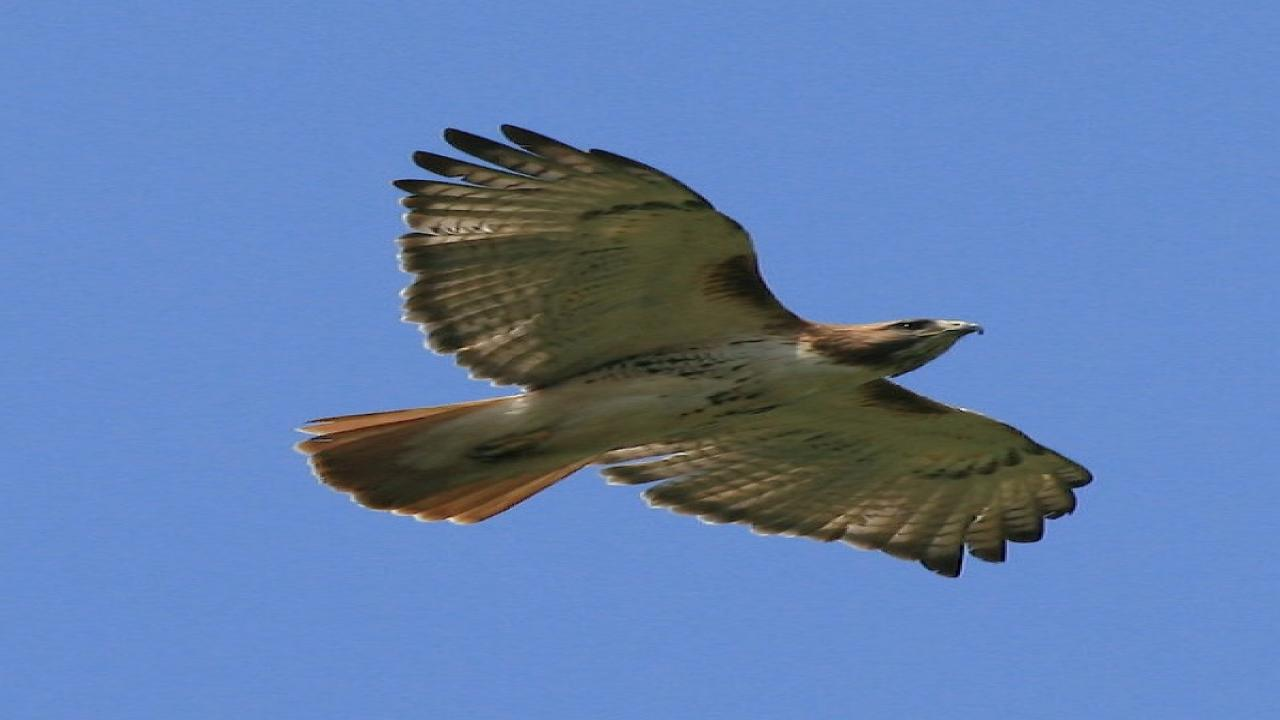Bird: (282, 115, 1106, 585)
